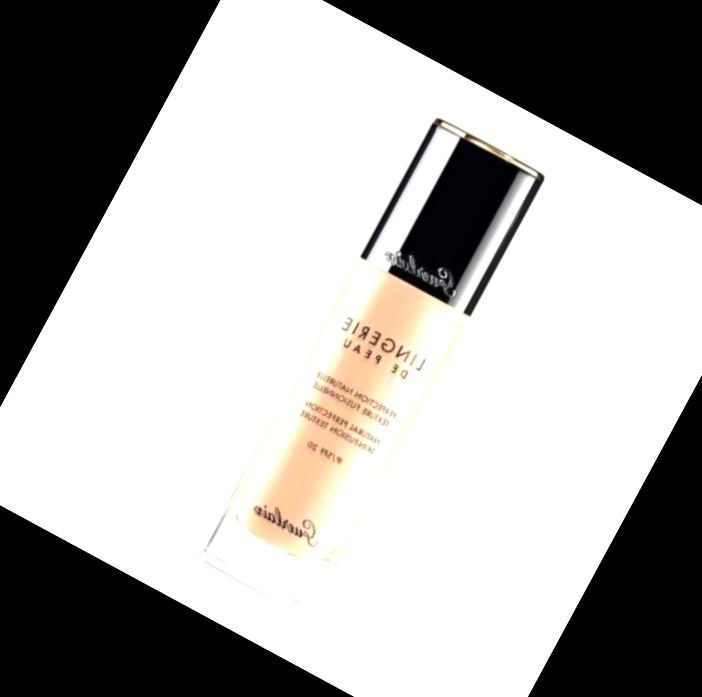cosmetic: (194, 112, 547, 615)
